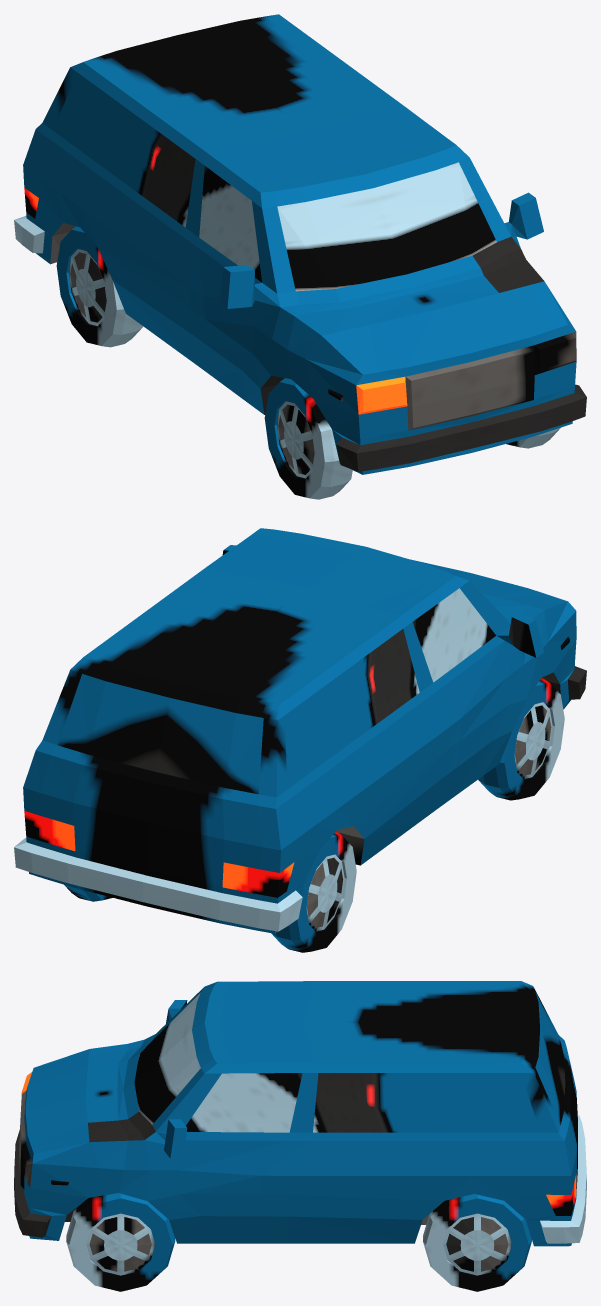
Rendered from citypack-van-L3.glb.
3 views of the same model, one above another, from view 1: azimuth 30°, elevation 25°; view 2: azimuth 150°, elevation 25°; view 3: azimuth 270°, elevation 25° (orthographic). The views are drawn at different scales.
Parts seen in each view (by area): view 1: body; view 2: body; view 3: body.
Boxes of the visible parts, left/top/right/bottom form: body: left=14, top=14, right=586, bottom=499; body: left=14, top=528, right=586, bottom=952; body: left=14, top=981, right=586, bottom=1291.
Size of the model in its own units: 43.89 by 34.33 by 80.23.
1 material, 1 textured.
